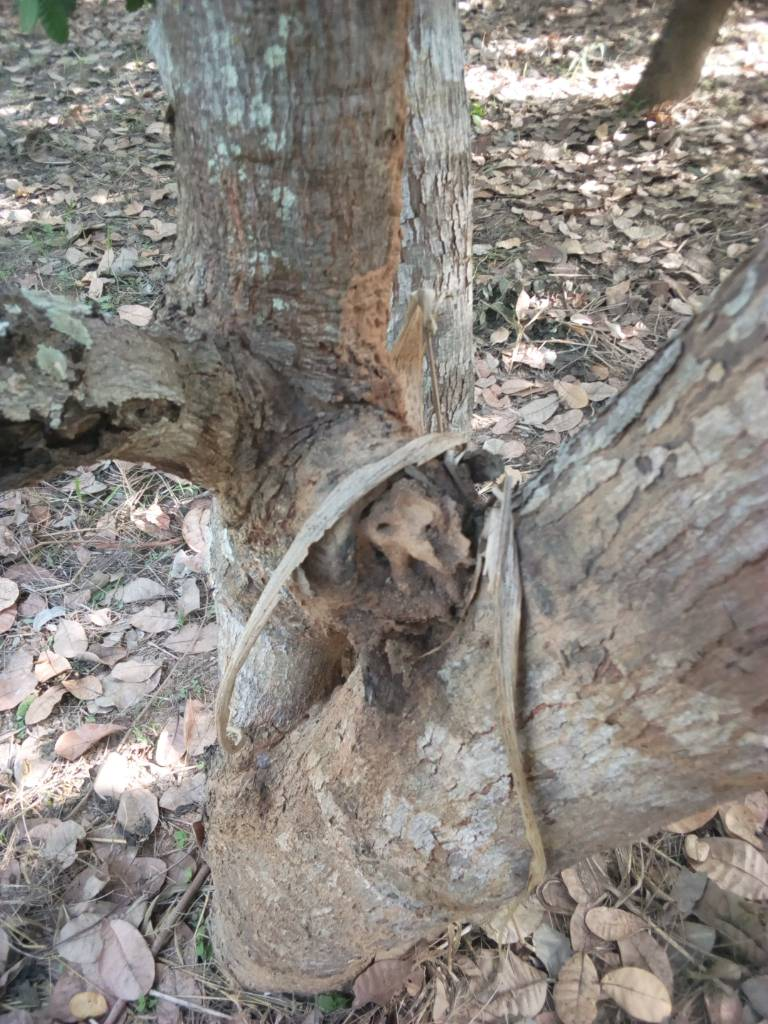Termites: (338, 19, 427, 405)
